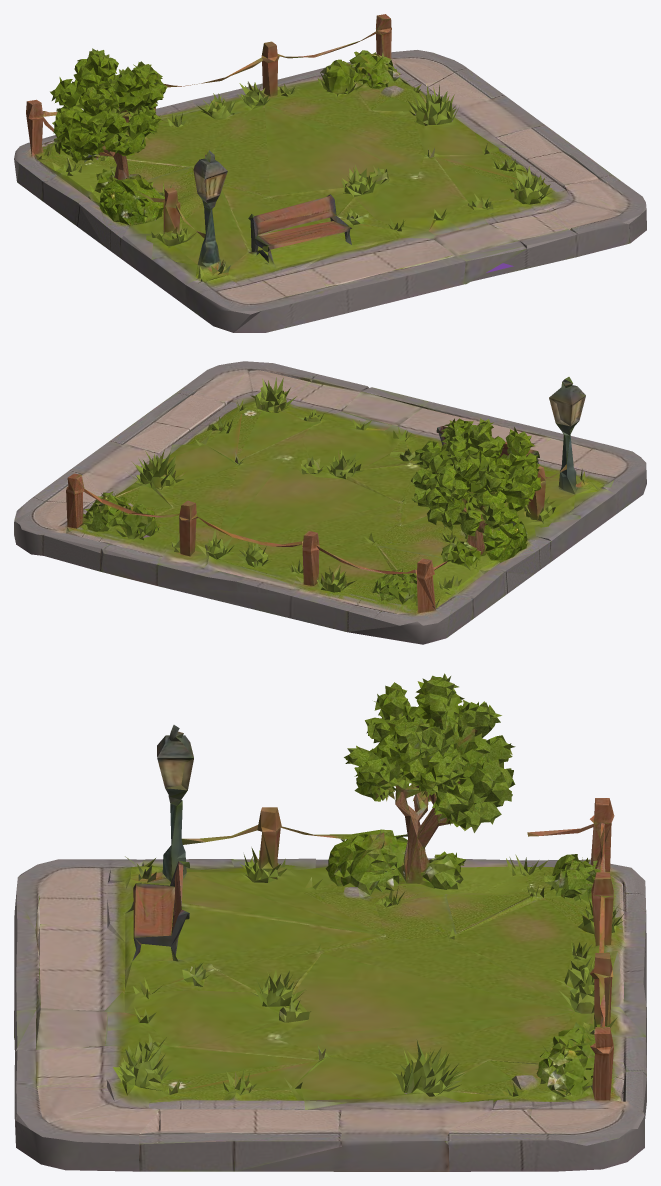
File: property-level-0-meshy-v1.glb
3 views of the same model, one above another, from view 1: azimuth 30°, elevation 25°; view 2: azimuth 150°, elevation 25°; view 3: azimuth 270°, elevation 25° (orthographic). The views are drawn at different scales.
Visible parts, largest first — view 1: PROPERTY_LEVEL_0; view 2: PROPERTY_LEVEL_0; view 3: PROPERTY_LEVEL_0.
Part boxes in pixels (x1,y1,x2,y2): PROPERTY_LEVEL_0: (14,14,646,332); PROPERTY_LEVEL_0: (14,361,646,644); PROPERTY_LEVEL_0: (14,673,646,1171).
Bounding box in the file's own units: 1 × 0.3508 × 0.8887.
2 materials, 1 textured.
